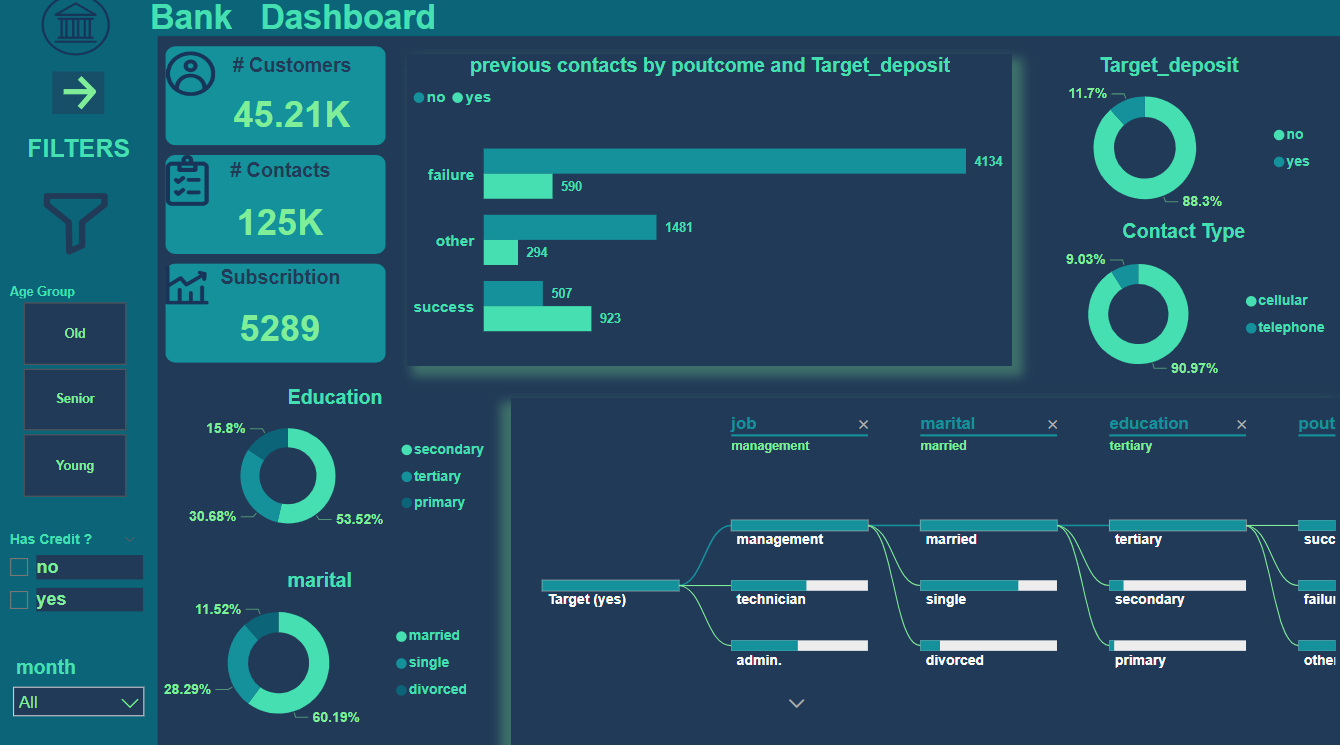

Layout of this report page (visuals, bound fields, positions):
{"tool":"powerbi","page":{"name":"Page 1","canvas":[1280,720],"ordinal":0},"visuals":[{"type":"card","title":"# Customers","fields":{"Values":["CountNonNull(bank-full.age)"]},"box":[189.6,57,185.3,91.2],"z":0},{"type":"donutChart","title":" Target_deposit ","fields":{"Category":["bank-full.Target_deposit"],"Y":["CountNonNull(bank-full.Target_deposit)"]},"box":[967.8,57,297.9,158.2],"z":1000},{"type":"donutChart","title":" marital","fields":{"Category":["bank-full.marital"],"Y":["CountNonNull(bank-full.marital)"]},"box":[153.9,547.3,309.3,158.2],"z":2000},{"type":"donutChart","title":"Education ","fields":{"Category":["bank-full.education"],"Y":["CountNonNull(bank-full.education)"]},"box":[166.8,373.5,312.2,149.7],"z":3000},{"type":"clusteredBarChart","title":"previous contacts by poutcome and Target_deposit","fields":{"Series":["bank-full.Target_deposit"],"Category":["bank-full.poutcome"],"Y":["CountNonNull(bank-full.previous)"]},"box":[392,57,575.9,296.5],"z":5000},{"type":"card","title":"# Contacts ","fields":{"Values":["Sum(bank-full.campaign)"]},"box":[166.8,156.8,208.1,98.4],"z":6000},{"type":"card","title":"Subscribtion","fields":{"Values":["bank-full.subscribtion"]},"box":[166.8,259.4,208.1,94.1],"z":7000},{"type":"donutChart","title":"Contact Type","fields":{"Y":["CountNonNull(bank-full.contact)"],"Category":["bank-full.contact"]},"box":[982.1,215.2,297.9,158.2],"z":8000},{"type":"textbox","box":[119.7,0,325,59.9],"z":9000},{"type":"textbox","box":[20,128.3,116.9,38.5],"z":10000},{"type":"slicer","fields":{"Values":["bank-full.age_group"]},"box":[0,270.8,148.2,213.8],"z":11000},{"type":"slicer","fields":{"Values":["bank-full.default"]},"box":[0,507.4,145.4,91.2],"z":12000},{"type":"slicer","fields":{"Values":["bank-full.month"]},"box":[5.7,625.7,145.4,67],"z":13000},{"type":"decompositionTreeVisual","fields":{"ExplainBy":["bank-full.job","bank-full.marital","bank-full.education","bank-full.balance","bank-full.poutcome","bank-full.contact"],"Analyze":["Sum(bank-full.target)"]},"box":[490.3,384.9,789.7,335],"z":13001},{"type":"actionButton","box":[53.6,73.8,50,40.5],"z":13002}]}

Visuals, with their boxes in screenshot pixels (x1, y1, x2, y2), scaled from the page's 1280x720 canvas onto the 1340x745 screenshot:
"# Customers" card: 198, 59, 392, 153
" Target_deposit " donutChart: 1013, 59, 1325, 223
" marital" donutChart: 161, 566, 485, 730
"Education " donutChart: 175, 386, 501, 541
"previous contacts by poutcome and Target_deposit" clusteredBarChart: 410, 59, 1013, 366
"# Contacts " card: 175, 162, 392, 264
"Subscribtion" card: 175, 268, 392, 366
"Contact Type" donutChart: 1028, 223, 1339, 386
textbox: 125, 0, 466, 62
textbox: 21, 133, 143, 173
slicer - bank-full.age_group: 0, 280, 155, 501
slicer - bank-full.default: 0, 525, 152, 619
slicer - bank-full.month: 6, 647, 158, 717
decompositionTreeVisual - bank-full.job x bank-full.marital: 513, 398, 1339, 744
actionButton: 56, 76, 108, 118
